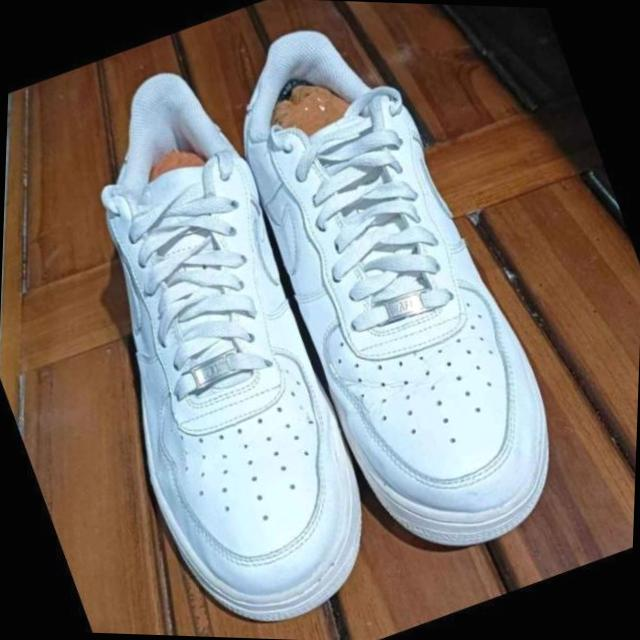nike_fake_airforce: (0, 51, 413, 640), (191, 0, 601, 580)
